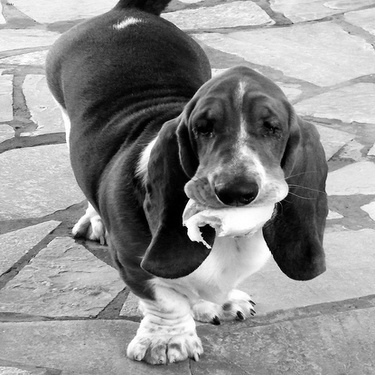dog: (41, 1, 334, 367)
